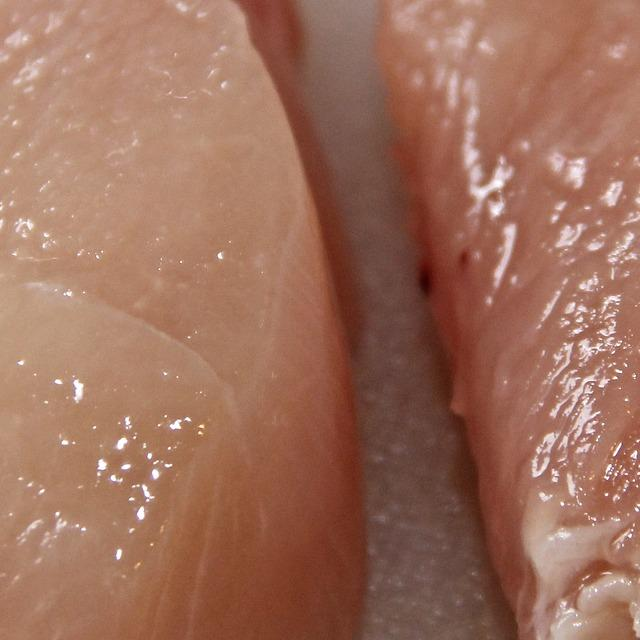chicken: (0, 0, 374, 640), (377, 0, 640, 640)
